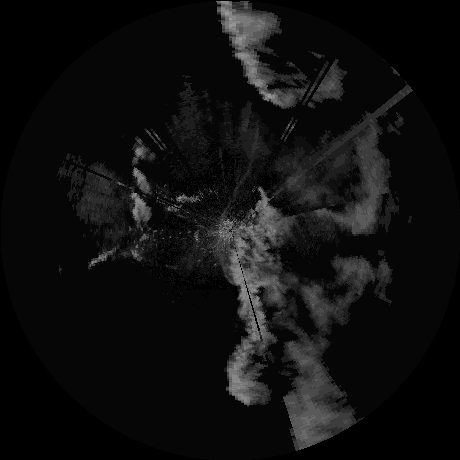frontgust: (219, 121, 264, 217)
